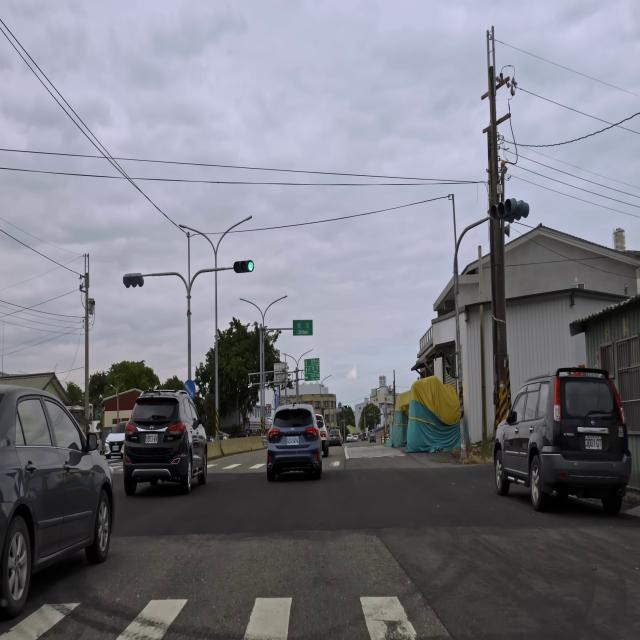green light: (232, 260, 255, 273)
